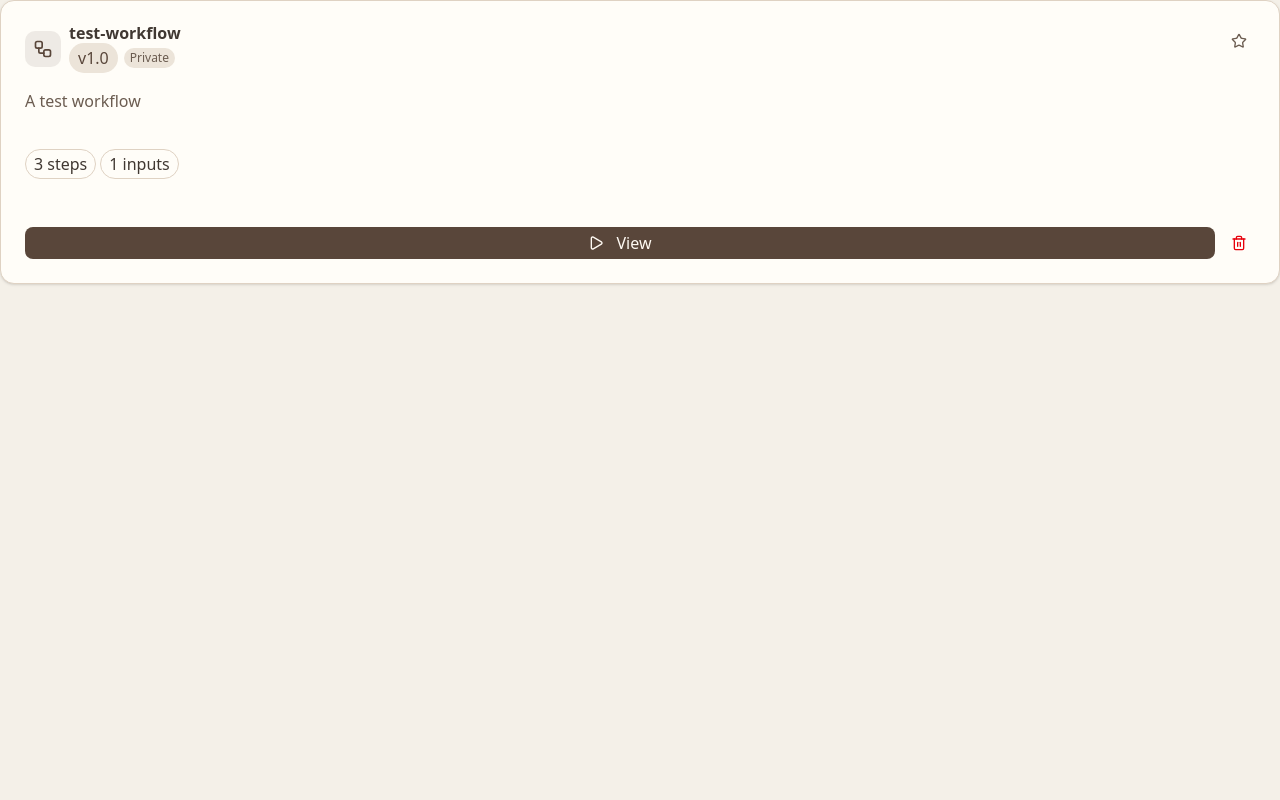
it: WorkflowCard › shows deleting text on confirm button when delete is pending
The image size is (1280, 800).
Click the button with test id "workflow-delete-button".
click(1239, 243)  # box [1223,227,1255,259]
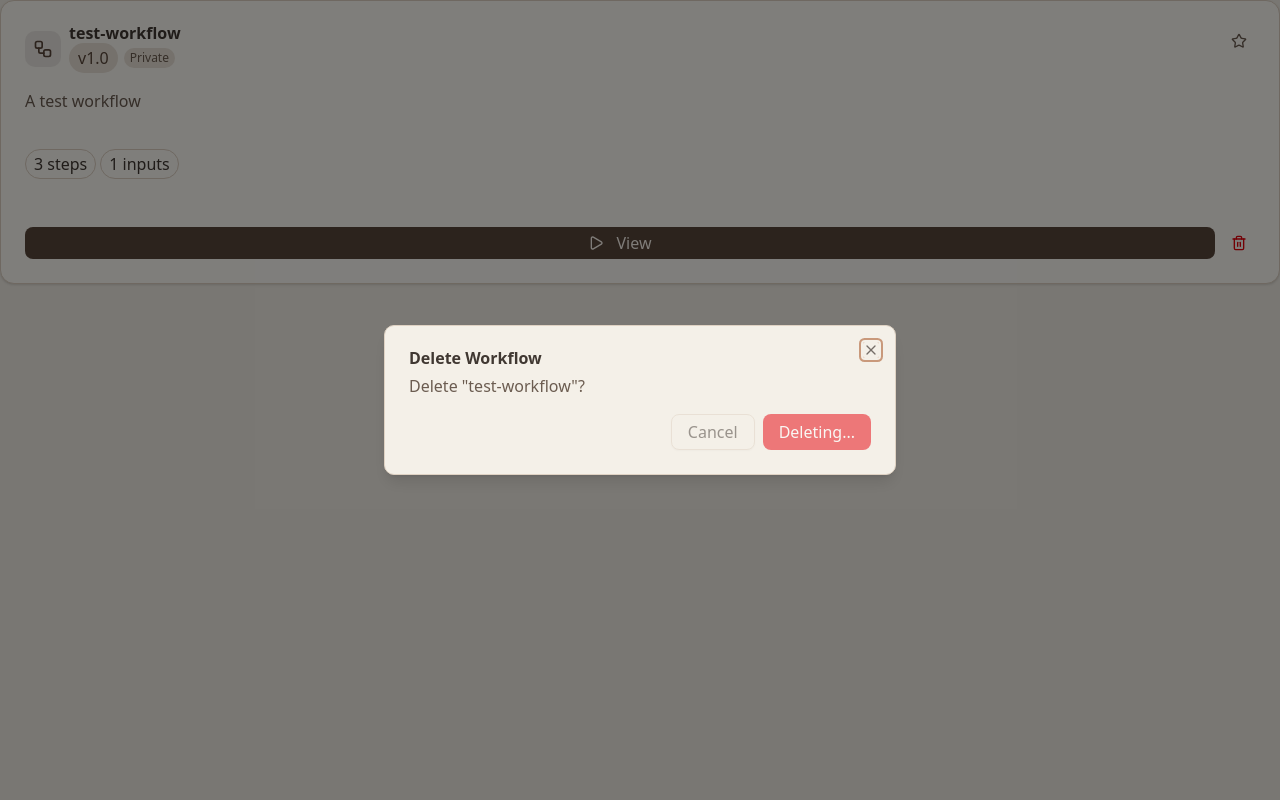
Expected: the dialog is shown, [384,325,896,475]
Expected: the button "Deleting..." is shown, [763,414,871,450]
